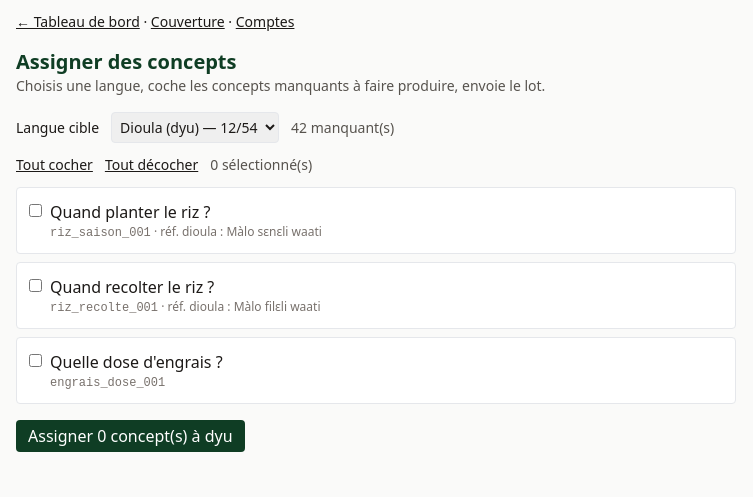
Test case: AssignView — assignation par lot › refuse un lot vide au lieu de poster une assignation sans effet
Step 1. Click the button "Assigner 0 concept(s) à dyu" → (130, 436), box [16, 420, 244, 452]
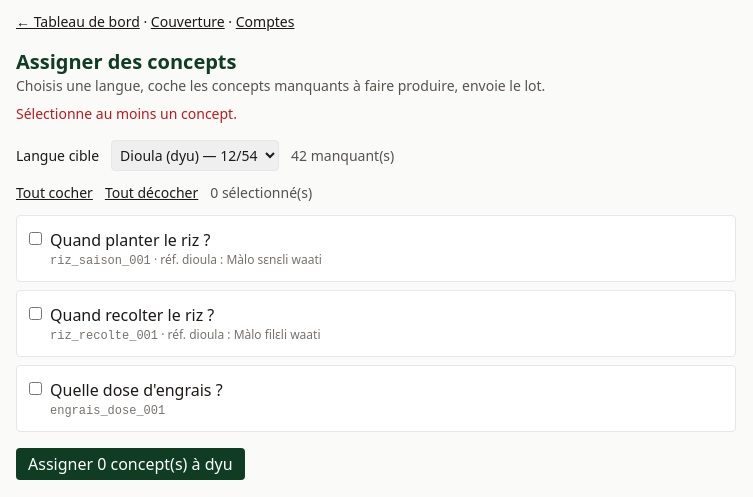
Now the text "Sélectionne au moins un concept." is shown, box [16, 104, 237, 123]
